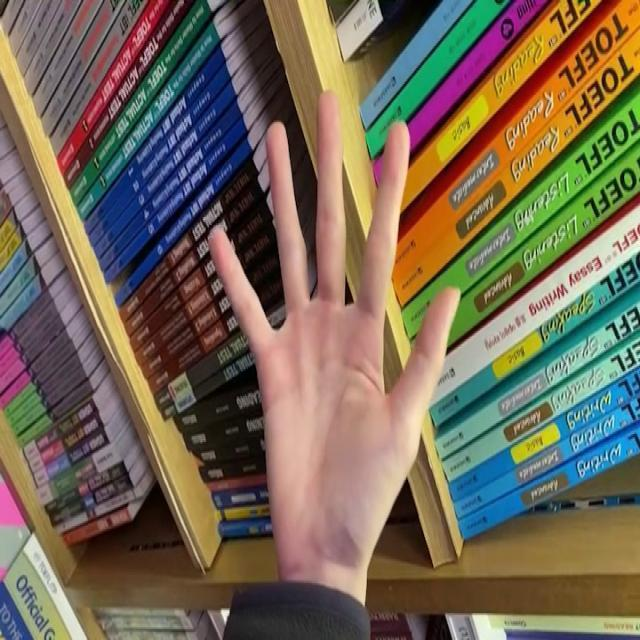hand: (206, 84, 462, 577)
